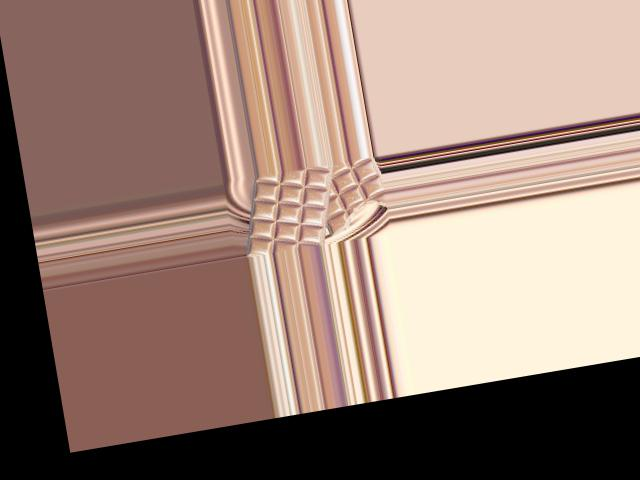chocolate: (231, 162, 346, 256)
